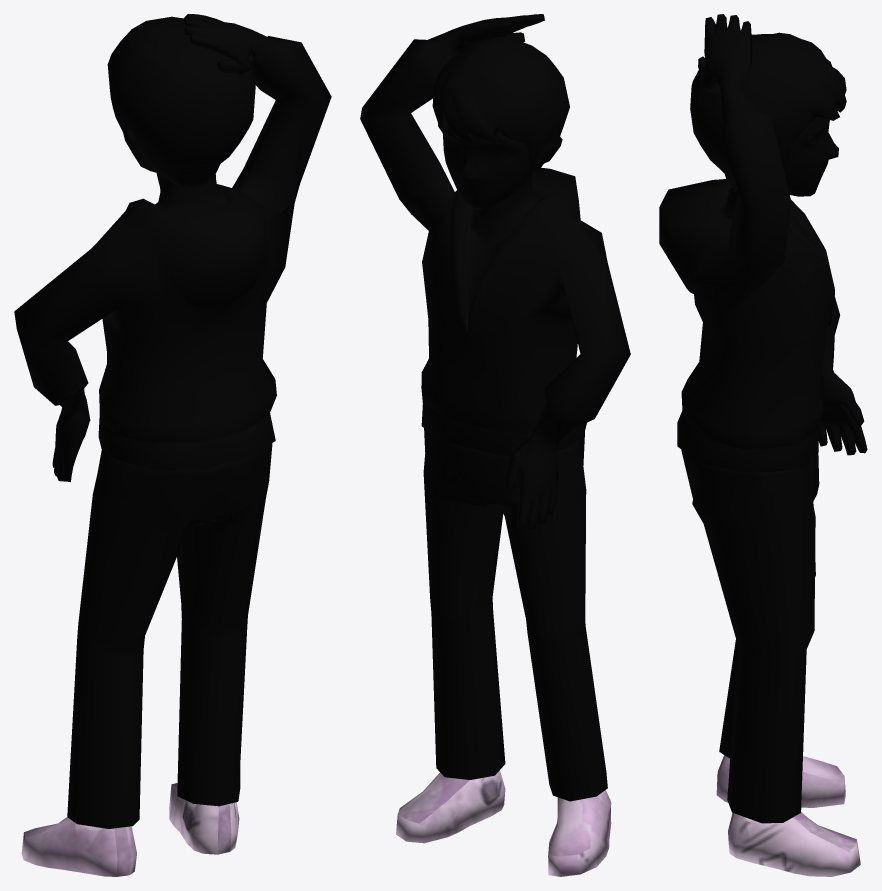
File: s0_Str_Statue_greek_02__1__01.glb
The picture shows the model from 3 angles, left to right: view 1: azimuth 30°, elevation 25°; view 2: azimuth 150°, elevation 25°; view 3: azimuth 270°, elevation 25°; orthographic projection. The views are drawn at different scales.
Parts seen in each view (by area): view 1: node_Str_Statue_greek_02 (1); view 2: node_Str_Statue_greek_02 (1); view 3: node_Str_Statue_greek_02 (1).
Boxes of the visible parts, left/top/right/bottom form: node_Str_Statue_greek_02 (1): left=14, top=14, right=331, bottom=876; node_Str_Statue_greek_02 (1): left=360, top=14, right=630, bottom=876; node_Str_Statue_greek_02 (1): left=659, top=14, right=867, bottom=876.
Size of the model in its own units: 0.7261 by 2 by 0.4548.
Materials: 1 (1 with a texture image).
